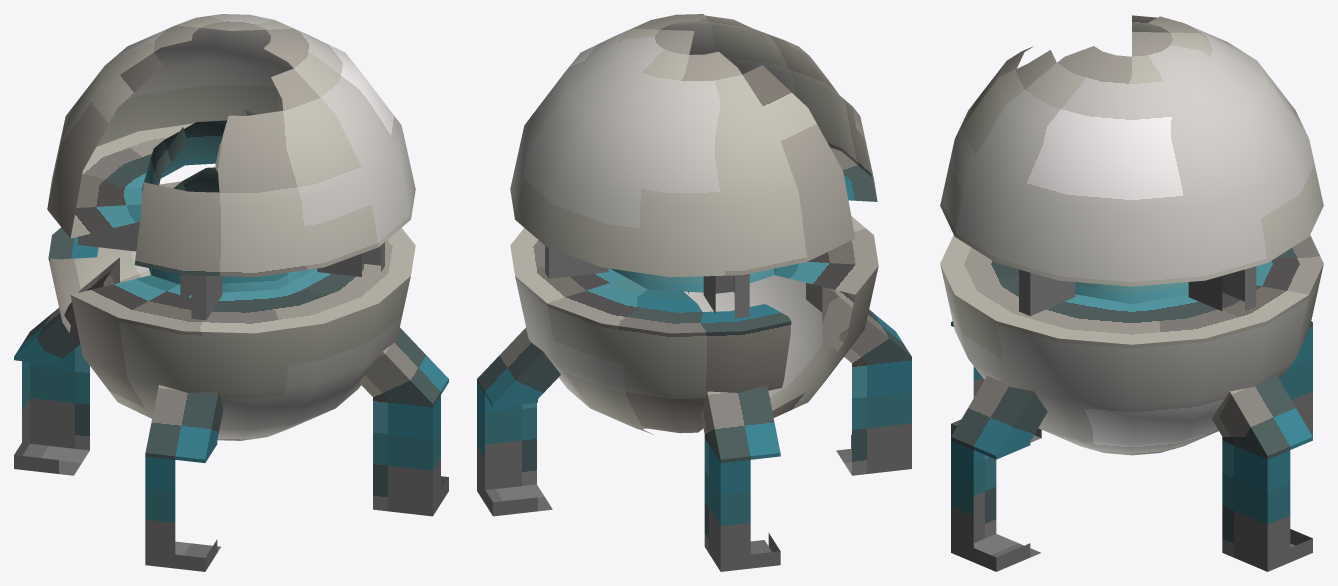
File: lamp_demon.obj
3 renders of one model, left to right at view 1: azimuth 30°, elevation 25°; view 2: azimuth 150°, elevation 25°; view 3: azimuth 270°, elevation 25°, orthographic. The views are drawn at different scales.
Visible parts, largest first — view 1: Sphere; view 2: Sphere; view 3: Sphere.
Part boxes in pixels (bbox=[...]): Sphere: bbox=[14, 14, 448, 571]; Sphere: bbox=[477, 14, 911, 571]; Sphere: bbox=[940, 15, 1323, 571].
Size of the model in its own units: 0.75 by 1 by 0.75.
